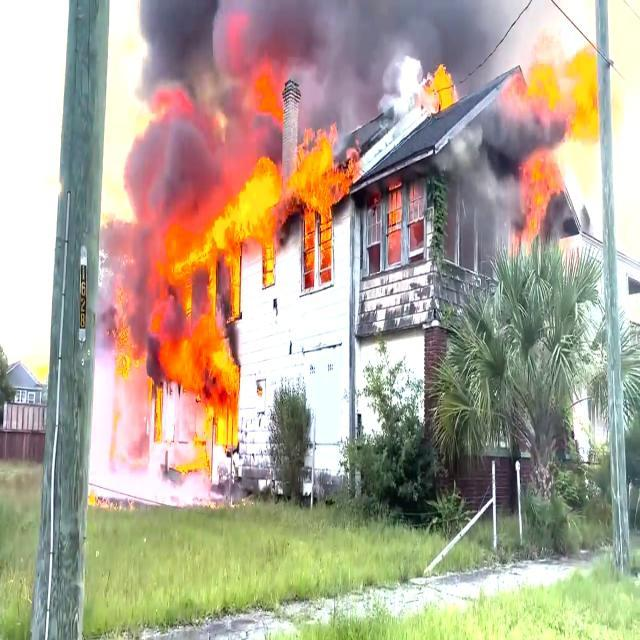Fire: (196, 170, 338, 280), (173, 314, 235, 435), (572, 54, 596, 130), (533, 162, 550, 242)
Smoke: (145, 0, 481, 68), (127, 82, 266, 148), (463, 112, 513, 242), (298, 78, 382, 114), (144, 162, 182, 222)
